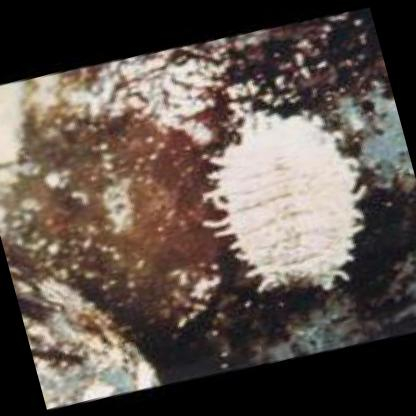mealy bug: (227, 111, 353, 293)
